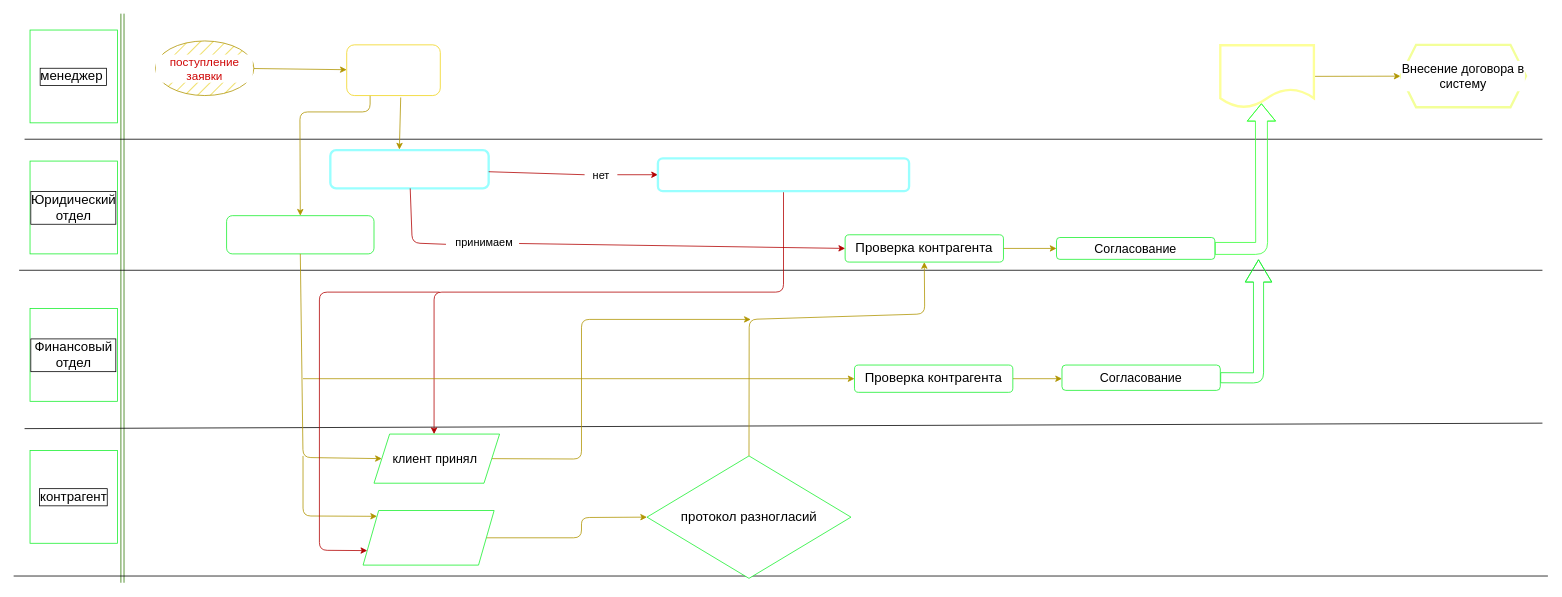
This 1562x597 diagram has some shape labels left out. The shapes that lost their labels are listed below. From the top down, each one's centre as x and y in pixels, then its label:
At (393,70): "фиксирование запроса в CRM".
At (1267,76): "Подпись договора".
At (409,169): "Договор не в нашей редакции".
At (783,174): "Продокол разногласий".
At (300,234): "Договор в нашей редакции".
At (428,537): "клиент непринял".
